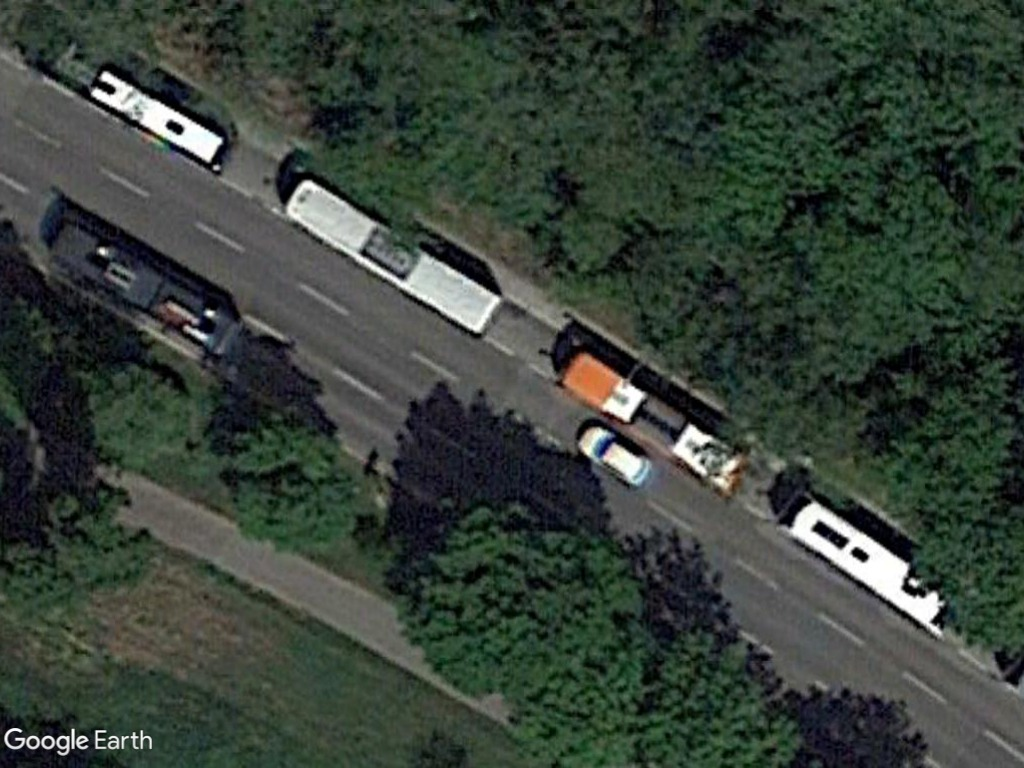bus: (281, 174, 506, 346), (558, 348, 746, 497), (87, 64, 229, 167)
car: (575, 423, 651, 490)
